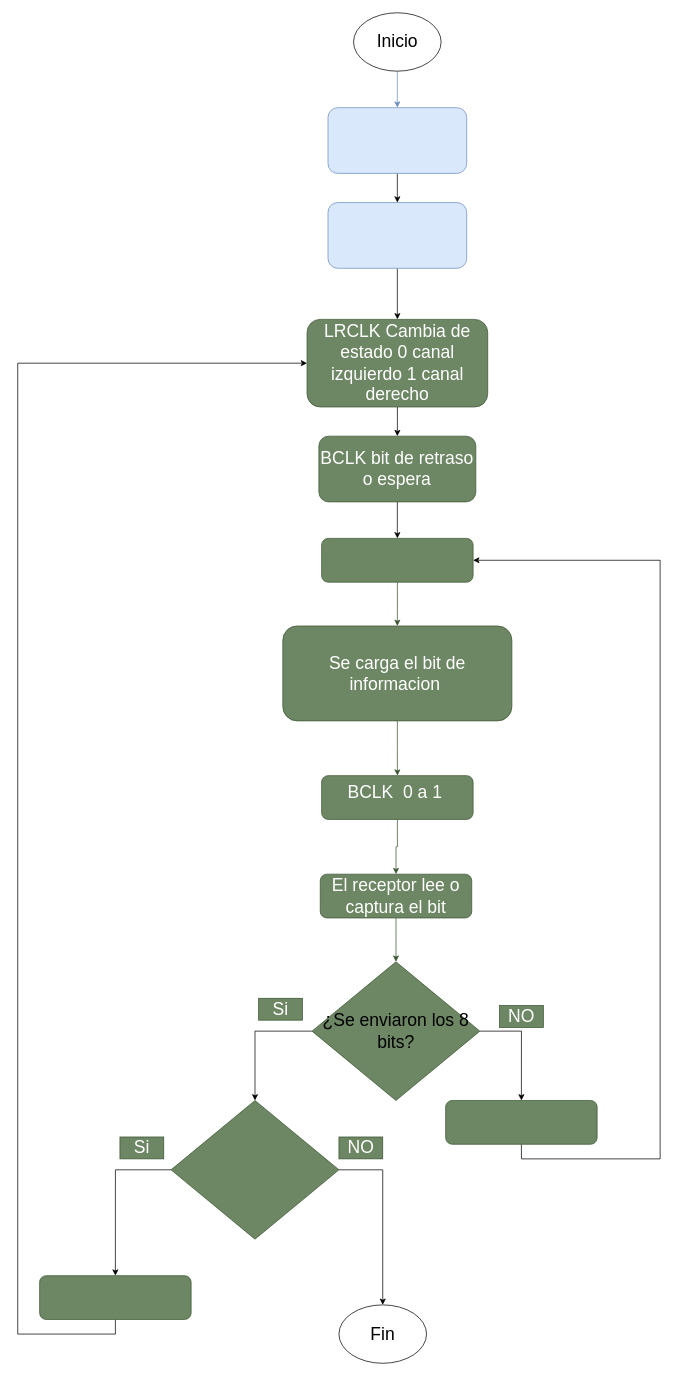
Some shapes in this 679 by 1376 pixel diagram are drawn without their labels. Here are the shapes that lost their labels. From the top down, the box of each, then its label:
(327, 107, 467, 173): Se carga el archivo en formato WAV
(327, 202, 467, 268): Saltar encabezado
(321, 538, 473, 582): BCLK 1 a 0
(445, 1100, 597, 1144): Pasar al siguiente bit
(170, 1100, 339, 1239): ¿Se tienen mas muestras?
(39, 1275, 191, 1319): Pasar a la siguiente muestra
